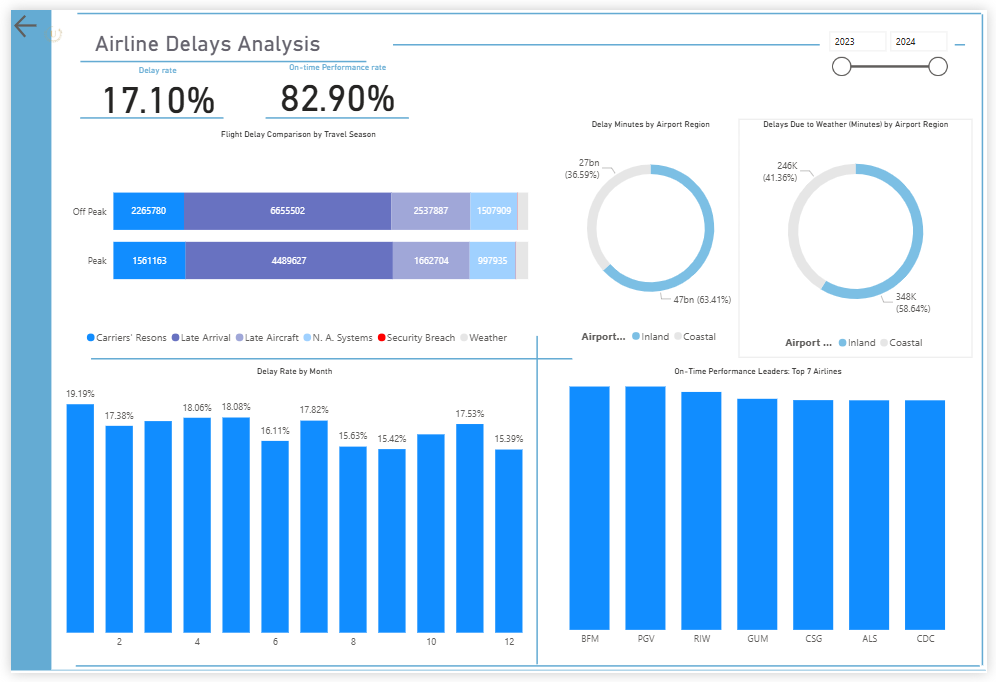

The dashboard page shown, as its layout file describes it:
{"tool":"powerbi","page":{"name":"2","canvas":[1280,869],"ordinal":1},"visuals":[{"type":"slicer","fields":{"Values":["Airline_Delays.Year"]},"box":[1061.1,18.5,175.9,72.2],"z":0},{"type":"textbox","box":[105.6,20.8,366.7,75],"z":1000},{"type":"card","title":"Delay rate","fields":{"Values":["Airline_Delays._delay rate"]},"box":[86.1,72.2,211.1,69.4],"z":2000},{"type":"card","title":"On-time Performance rate","fields":{"Values":["Airline_Delays._Ontime Performance"]},"box":[323.6,69.4,211.1,69.4],"z":3000},{"type":"donutChart","title":" Delay Minutes by Airport Region","fields":{"Category":["Airline_Delays.Airport Region"],"Y":["Sum(Airline_Delays._Total Delay Minutes)"]},"box":[698.8,142.5,281.2,303.8],"z":4000},{"type":"clusteredColumnChart","title":"On-Time Performance Leaders: Top 7 Airlines ","fields":{"Category":["Airline_Delays.Airport (3 letter Code)"],"Y":["Airline_Delays._Ontime Performance"]},"box":[698.1,466.7,563,375.9],"z":5000},{"type":"hundredPercentStackedBarChart","title":"Flight Delay Comparison by Travel Season","fields":{"Category":["Airline_Delays.season"],"Y":["Sum(Airline_Delays.Delays Due to Carriers' Resons (Minutes))","Sum(Airline_Delays.Delay Due to Late Arrival (Minutes))","Sum(Airline_Delays.Delays Due to Late Aircraft (Minutes))","Sum(Airline_Delays.Delays Due to National Aviation Systems (Minutes))","Sum(Airline_Delays.Delays Due to Security Breach (Minutes))","Sum(Airline_Delays.Delays Due to Weather (Minutes))"]},"box":[70.4,155.6,613,292.6],"z":6000},{"type":"clusteredColumnChart","title":"Delay Rate by Month","fields":{"Category":["Airline_Delays.Month"],"Y":["Airline_Delays._delay rate"]},"box":[64.8,466.7,613,379.6],"z":7000},{"type":"donutChart","title":" Delays Due to Weather (Minutes) by Airport Region","fields":{"Category":["Airline_Delays.Airport Region"],"Y":["Sum(Airline_Delays.Delays Due to Weather (Minutes))"]},"box":[953.8,142.5,307.5,312.5],"z":8000},{"type":"image","box":[11.1,0,87,72.2],"z":9000},{"type":"actionButton","box":[0,1.8,100,39.3],"z":10001}]}

Visuals, with their boxes on the page's 1280x869 design canvas (x1, y1, x2, y2). These are canvas units, not pixel positions in the 996x682 screenshot, which may show the page scaled, cropped or inside an application window:
slicer - Airline_Delays.Year: {"x1": 1061, "y1": 18, "x2": 1237, "y2": 91}
textbox: {"x1": 106, "y1": 21, "x2": 472, "y2": 96}
"Delay rate" card: {"x1": 86, "y1": 72, "x2": 297, "y2": 142}
"On-time Performance rate" card: {"x1": 324, "y1": 69, "x2": 535, "y2": 139}
" Delay Minutes by Airport Region" donutChart: {"x1": 699, "y1": 142, "x2": 980, "y2": 446}
"On-Time Performance Leaders: Top 7 Airlines " clusteredColumnChart: {"x1": 698, "y1": 467, "x2": 1261, "y2": 843}
"Flight Delay Comparison by Travel Season" hundredPercentStackedBarChart: {"x1": 70, "y1": 156, "x2": 683, "y2": 448}
"Delay Rate by Month" clusteredColumnChart: {"x1": 65, "y1": 467, "x2": 678, "y2": 846}
" Delays Due to Weather (Minutes) by Airport Region" donutChart: {"x1": 954, "y1": 142, "x2": 1261, "y2": 455}
image: {"x1": 11, "y1": 0, "x2": 98, "y2": 72}
actionButton: {"x1": 0, "y1": 2, "x2": 100, "y2": 41}
